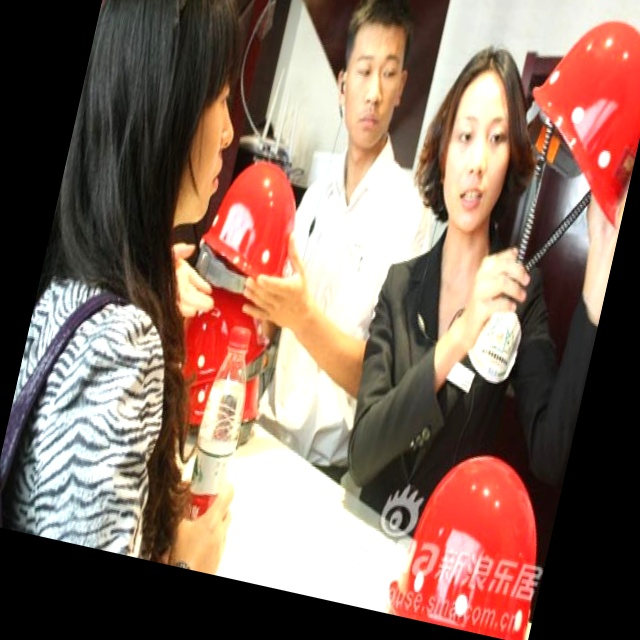Sin_Casco_Mascarrilla: (417, 38, 542, 234), (325, 0, 427, 146)
